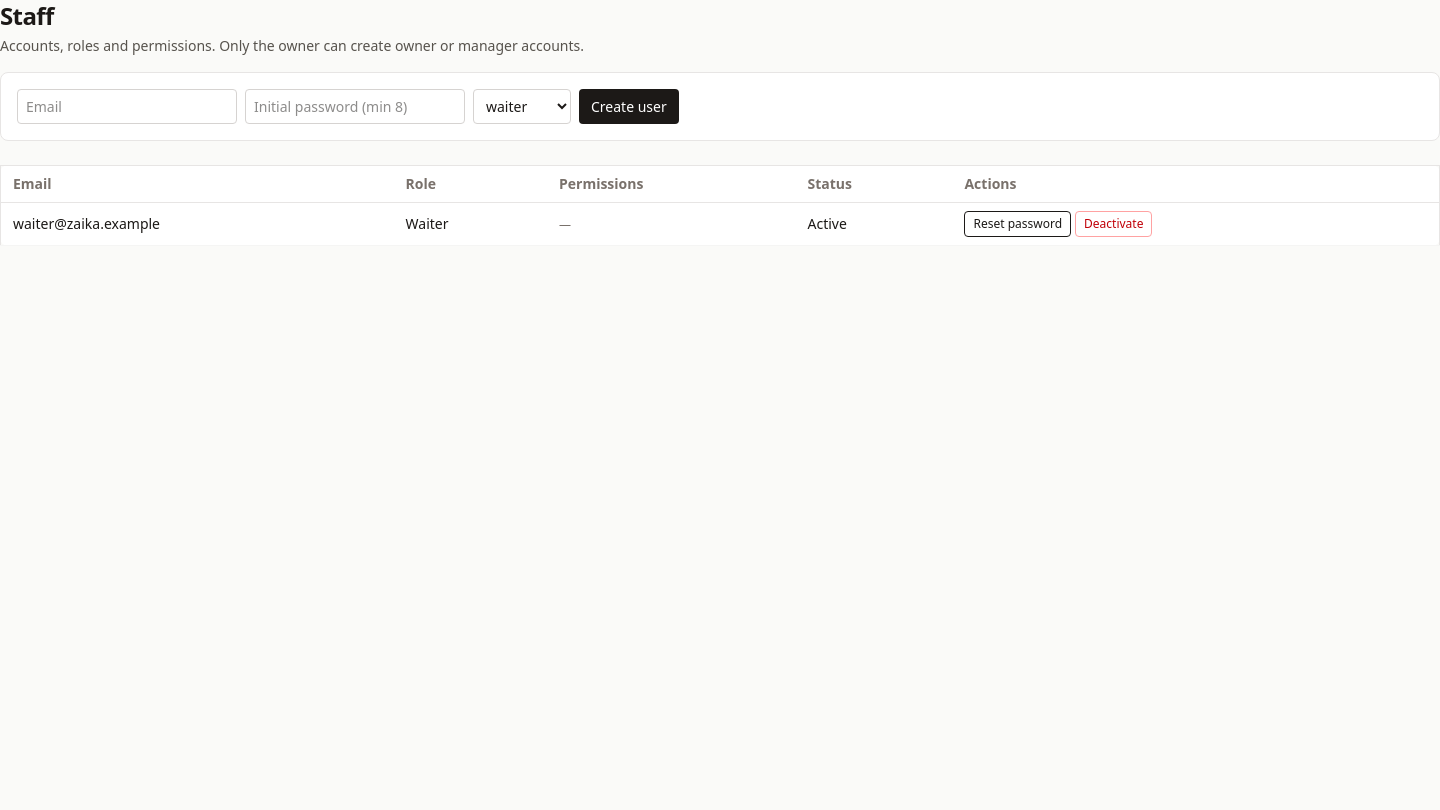
Test: Admin pages (Stage 7) › staff page creates a user and deactivates one only after confirmation
The width and height of the screenshot is (1440, 810).
Later steps or results of the test are not shown.
Check: the text "waiter@zaika.example" is shown, box [0, 202, 394, 246]
Type "new@zaika.example" into the field named "New user email". click: (127, 106)
box: [17, 89, 237, 124]
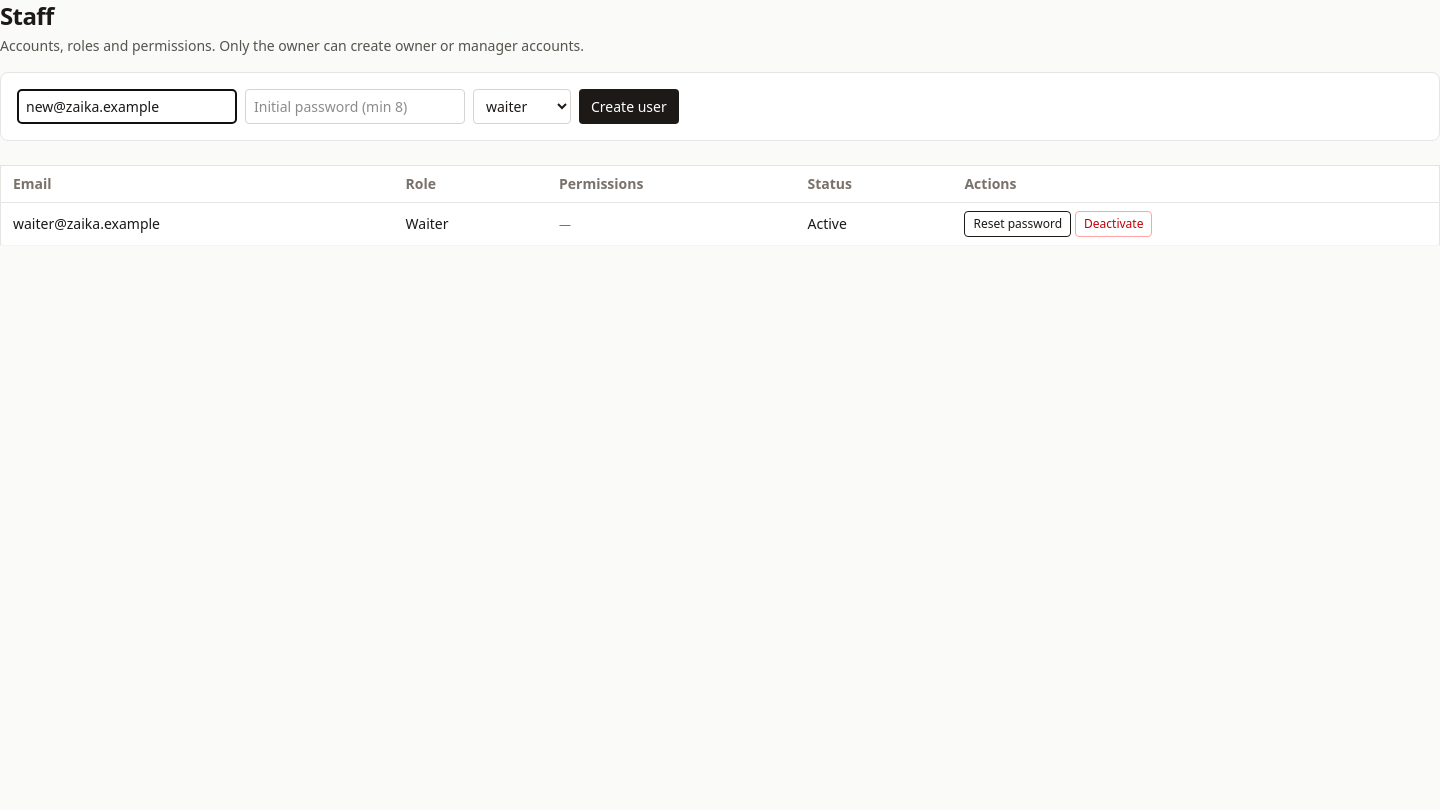
Type "initial-pass" into the password field labelled "Initial password". click: (355, 106)
box: [245, 89, 465, 124]
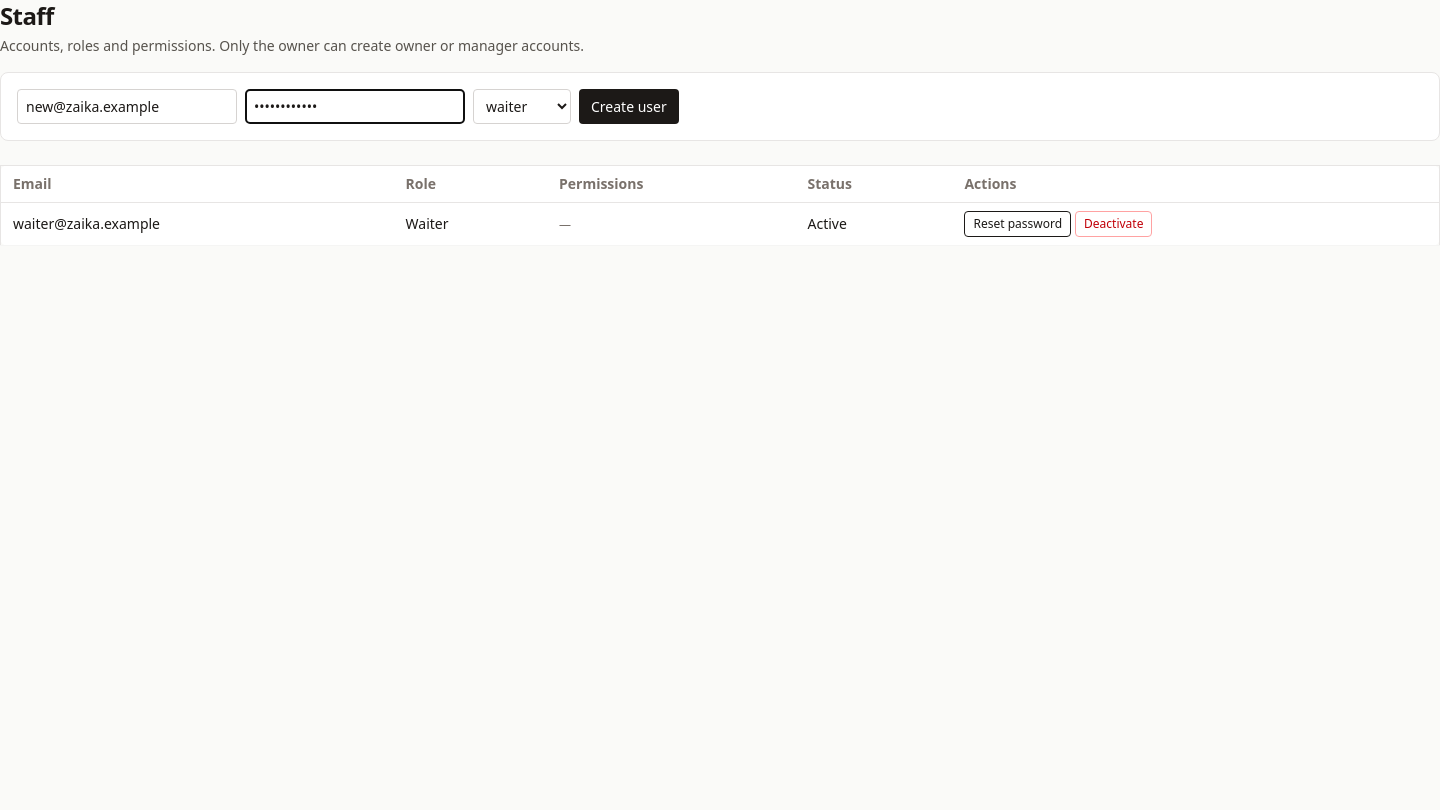
Click the button "Create user". click: (629, 106)
box: [579, 89, 679, 124]
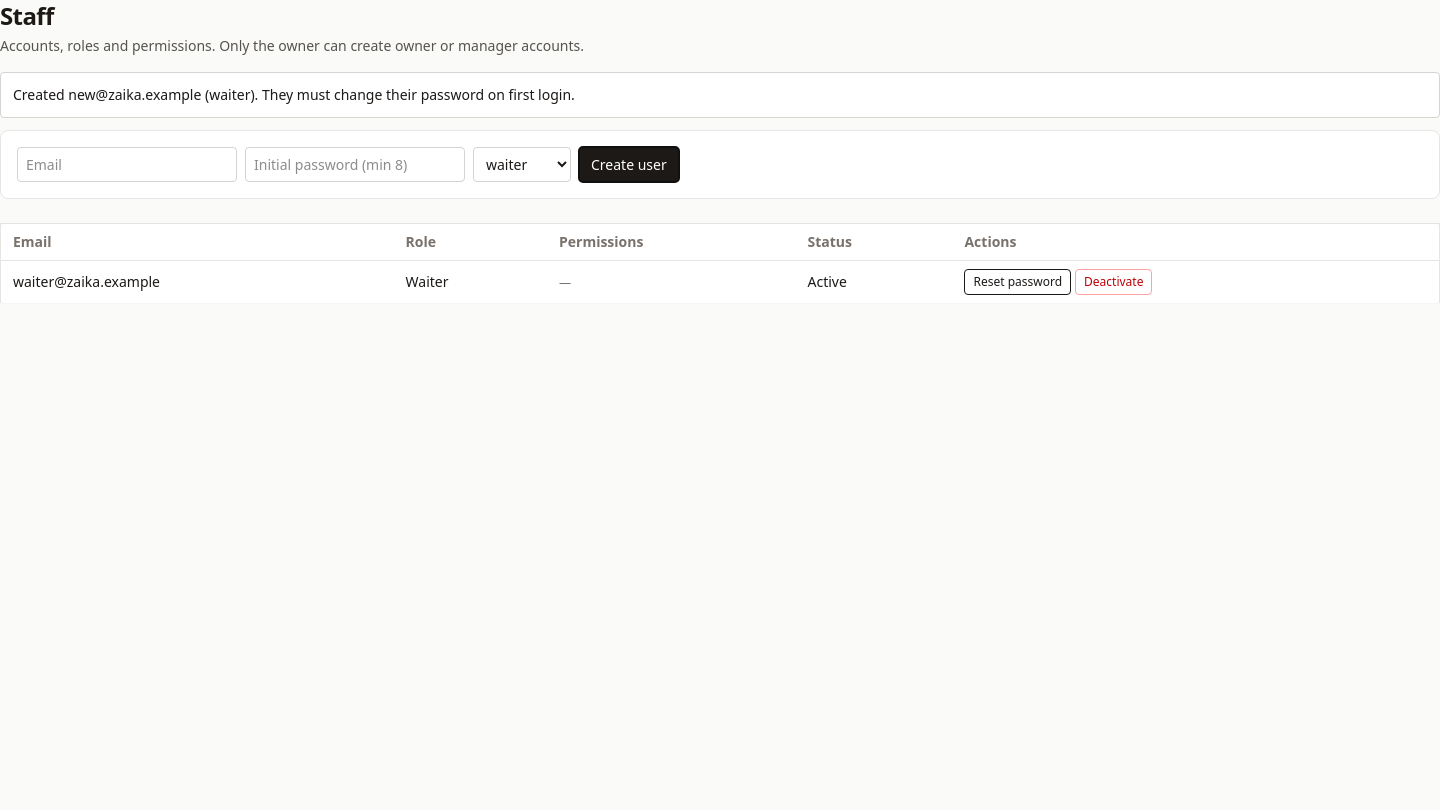
Click the button "Deactivate". click: (1114, 282)
box: [1075, 269, 1152, 295]
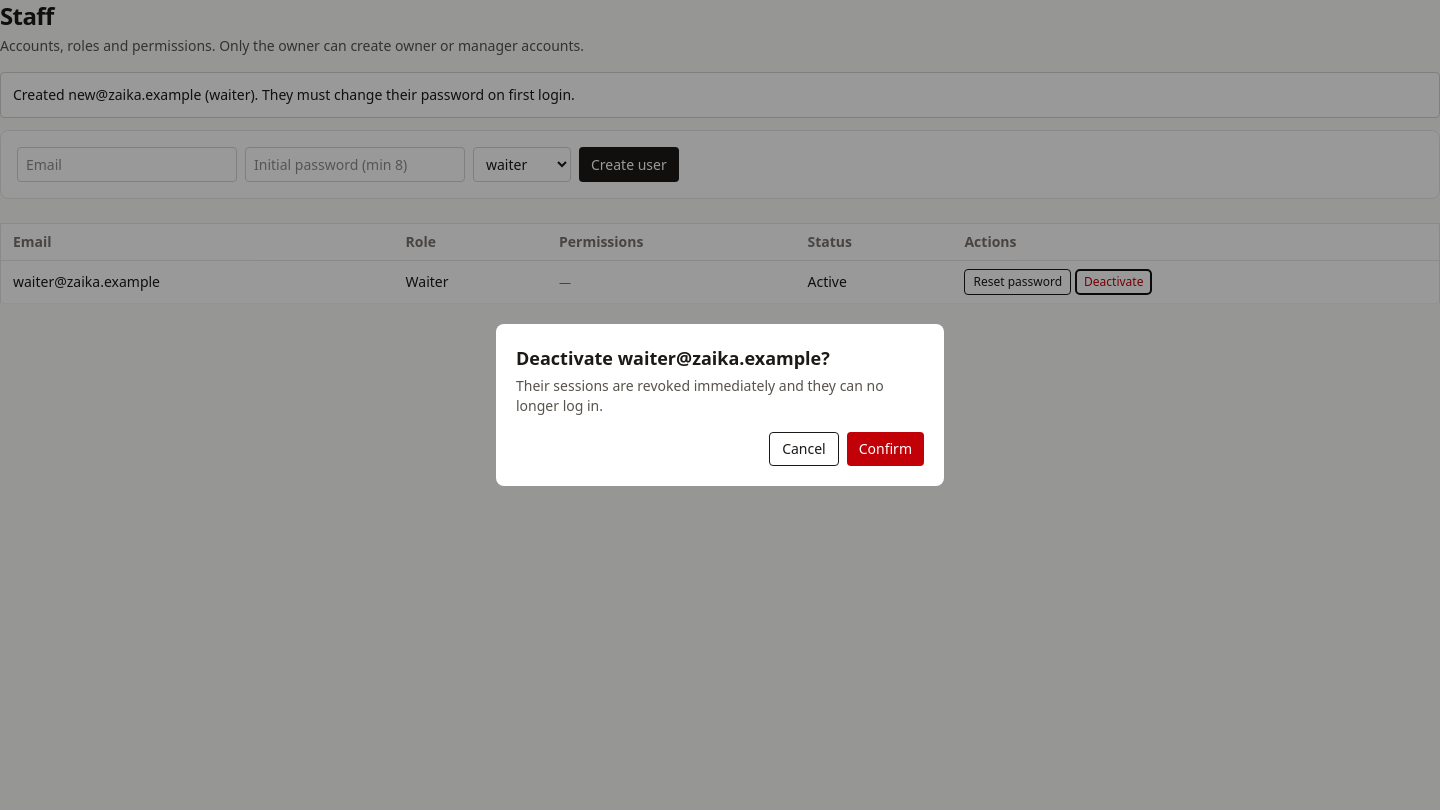
Check: the heading "Deactivate waiter@zaika.example?" is shown, box [516, 346, 830, 370]
